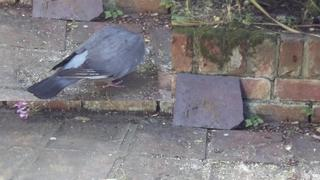wood pigeon: (27, 27, 145, 100)
